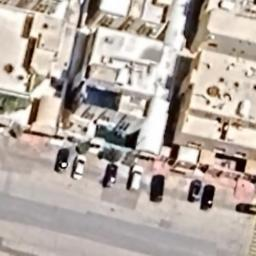sedan: (70, 152, 88, 182)
unknown: (148, 169, 169, 204), (101, 160, 120, 191), (52, 145, 70, 176), (200, 183, 216, 212), (186, 176, 202, 204), (234, 197, 256, 217)
van: (128, 162, 146, 194)
